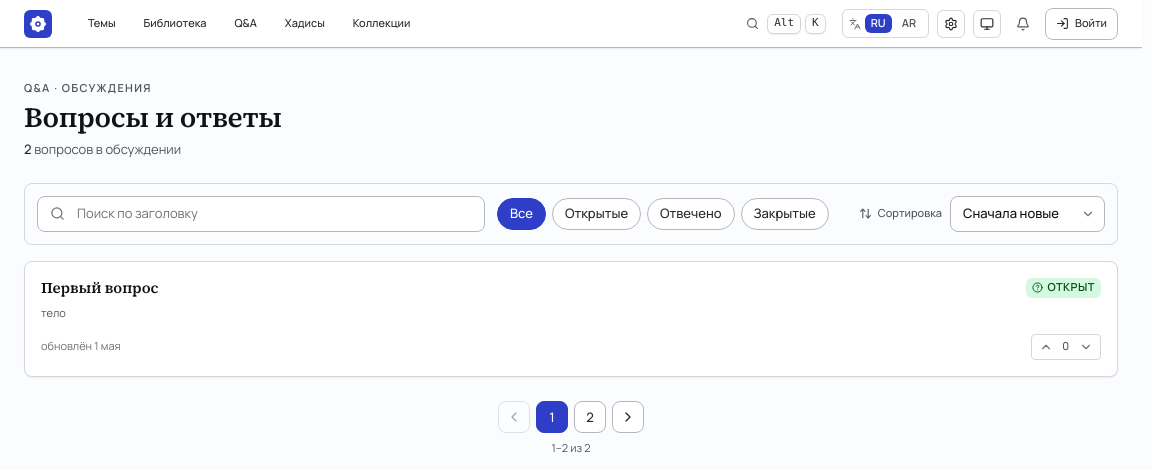
Test: QuestionListPage — переход на страницу: ошибка › при сбое перехода на страницу показывает осмысленное сообщение об ошибке, а не подзаголовок-строку
The width and height of the screenshot is (1152, 470).
Expected: the text "Первый вопрос" is shown, top-left (41, 277), bottom-right (158, 298)
Click the button named "Следующая страница" at (628, 417), box top-left (612, 401), bottom-right (644, 433)
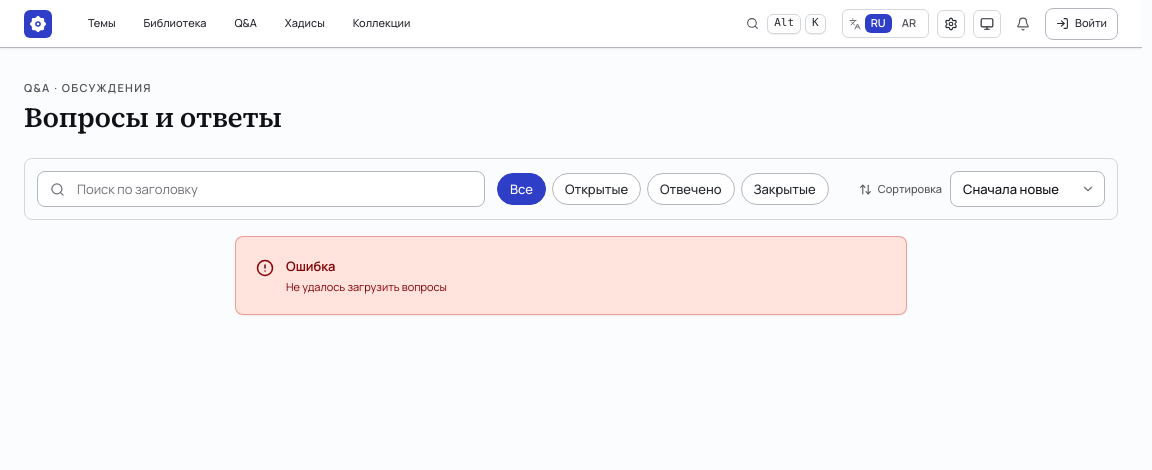
Result: the text "Не удалось загрузить вопросы" is shown at top-left (286, 280), bottom-right (447, 294)
Result: the text "вопросов в обсуждении" is gone
